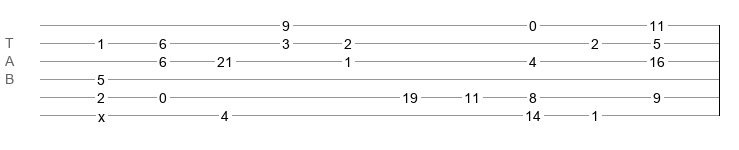0: (159, 90, 167, 100), (529, 18, 537, 28)
1: (97, 36, 105, 46), (344, 54, 352, 64), (591, 108, 599, 118)
11: (464, 90, 480, 100), (649, 18, 665, 28)
14: (525, 108, 541, 118)
16: (649, 54, 665, 64)
19: (402, 90, 418, 100)
2: (97, 90, 105, 100), (344, 36, 352, 46), (591, 36, 599, 46)
21: (217, 54, 233, 64)
3: (282, 36, 290, 46)
4: (221, 108, 229, 118), (529, 54, 537, 64)
5: (97, 72, 105, 82), (653, 36, 661, 46)
6: (159, 54, 167, 64), (159, 36, 167, 46)
8: (529, 90, 537, 100)
9: (282, 18, 290, 28), (653, 90, 661, 100)
x: (98, 109, 105, 117)
